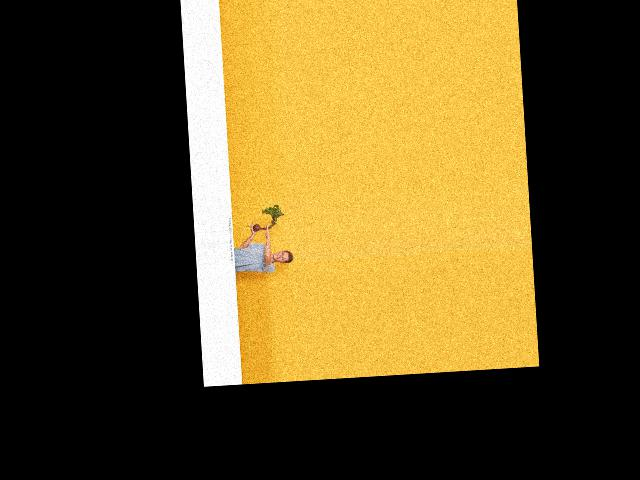beet: (244, 203, 284, 231)
